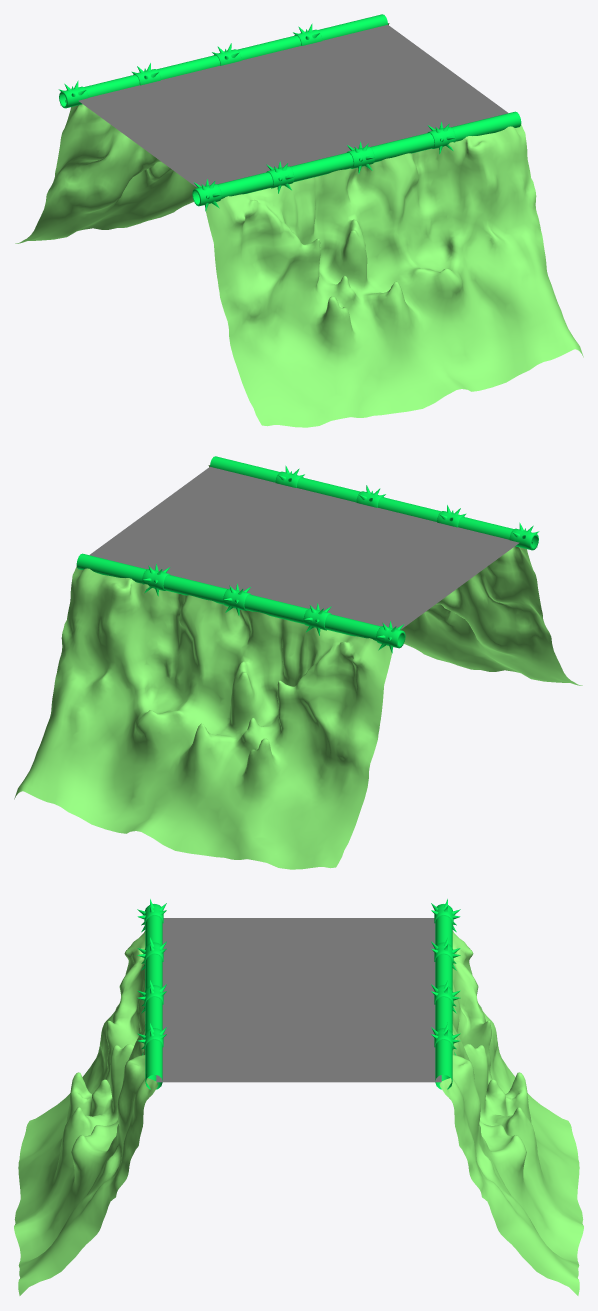
File: Track_Ice_09.fbx
The picture shows the model from 3 angles, top to bottom: view 1: azimuth 30°, elevation 25°; view 2: azimuth 150°, elevation 25°; view 3: azimuth 270°, elevation 25°; orthographic projection. The views are drawn at different scales.
Parts seen in each view (by area): view 1: Track_Ice_09_walls, Track_Ice_09; view 2: Track_Ice_09_walls, Track_Ice_09; view 3: Track_Ice_09_walls, Track_Ice_09.
Part boxes in pixels (x1,y1,x2,y2): Track_Ice_09_walls: (15,14,583,427); Track_Ice_09: (78,25,508,187); Track_Ice_09_walls: (14,456,582,869); Track_Ice_09: (89,467,519,629); Track_Ice_09_walls: (14,899,583,1295); Track_Ice_09: (156,918,441,1082).
Size of what is drawn, in the model's own units: 3178 by 4392 by 2015.
